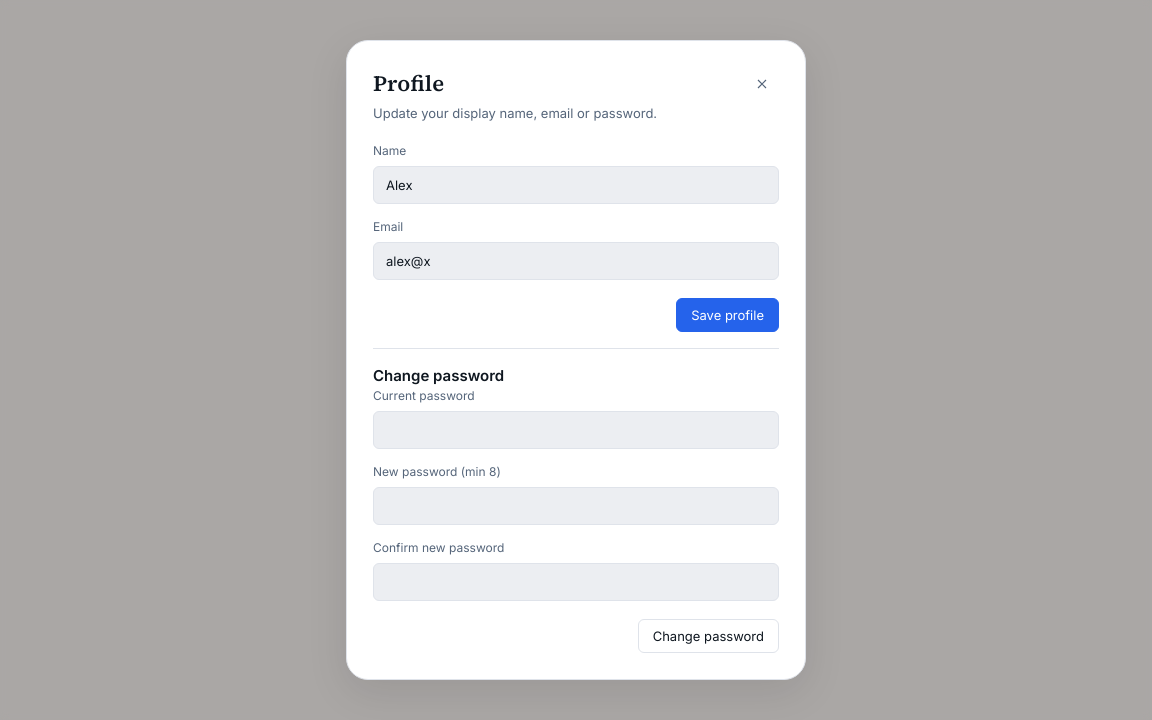
Scenario: ProfileModal — profile save › sends only the changed fields when name is edited
Replace the text in the 1st field with "Alexandra": x=576, y=184 [373, 166, 779, 204]
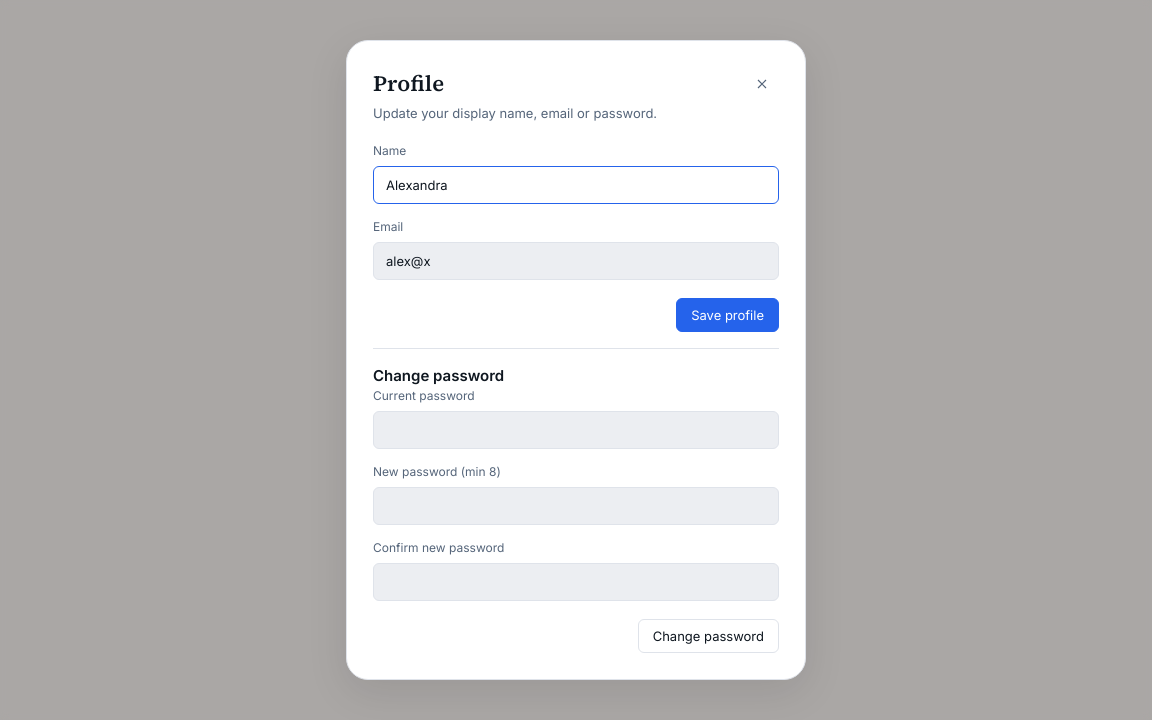
Click the button "Save profile": x=728, y=314 [676, 298, 779, 332]
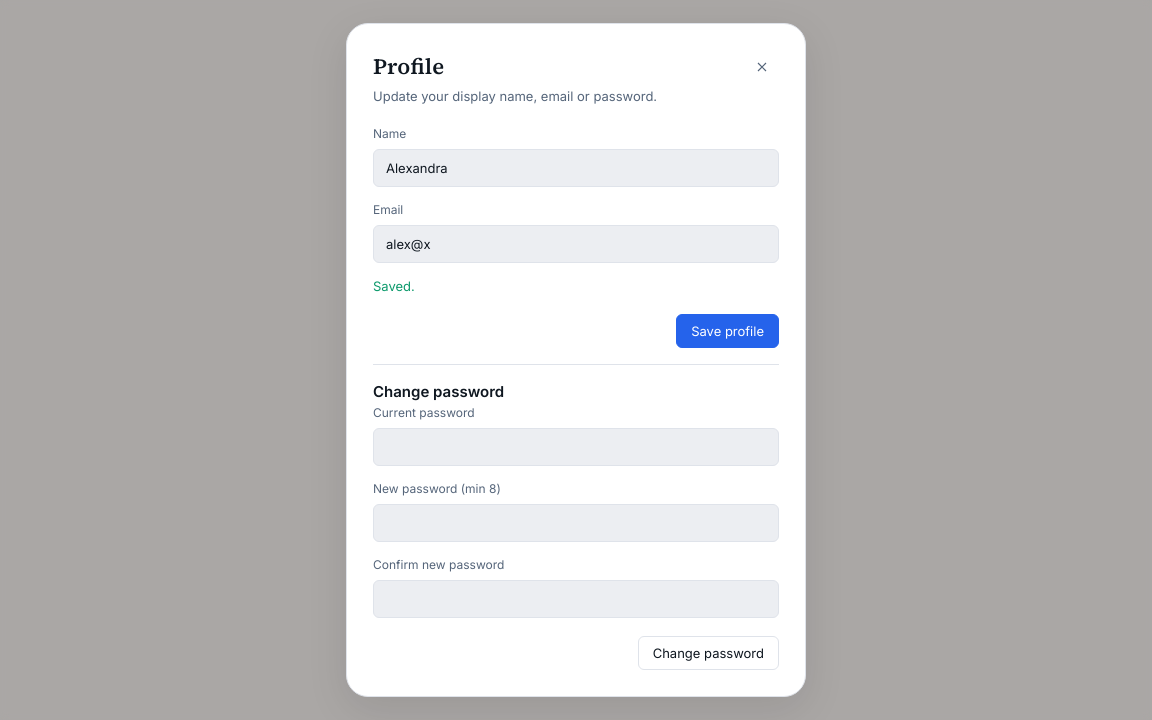
Expected: the text "Saved." is shown, [373, 278, 415, 294]
